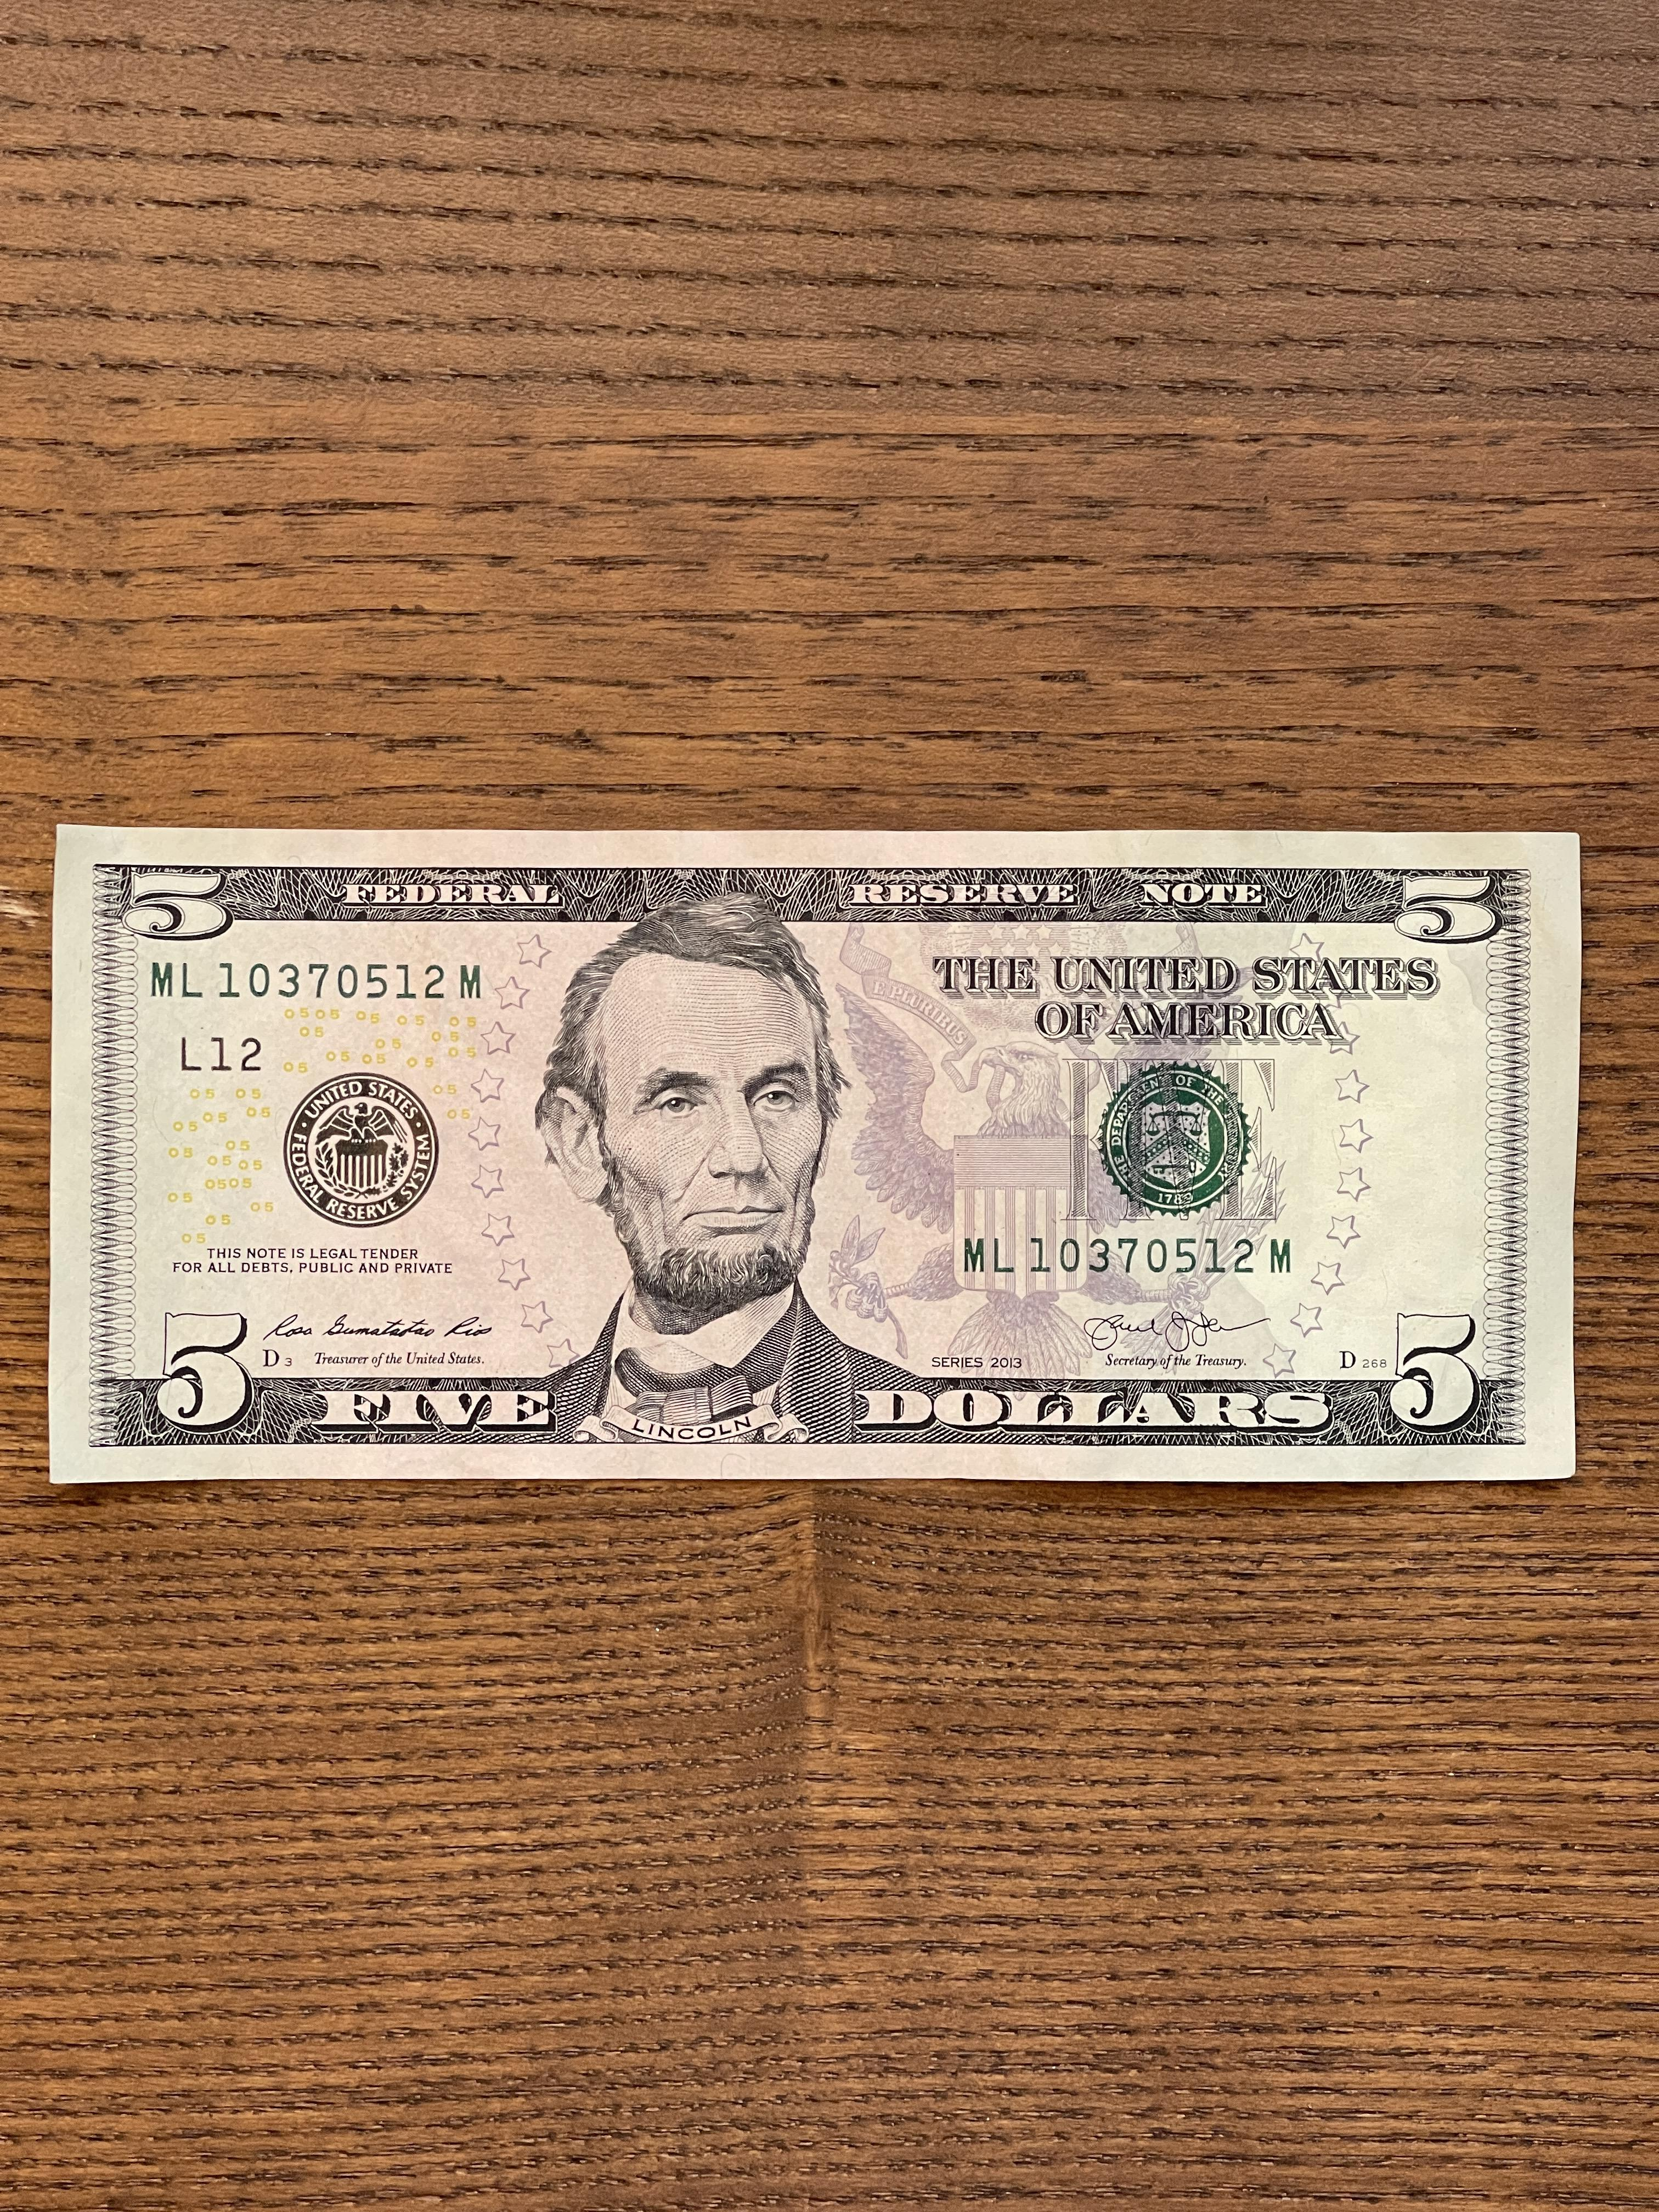FiveBill: (40, 822, 1588, 1489)
